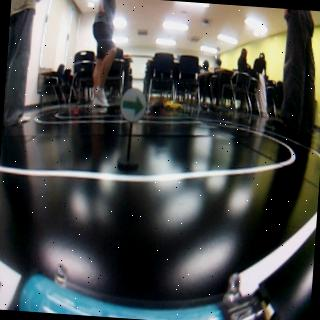right: (121, 87, 147, 121)
